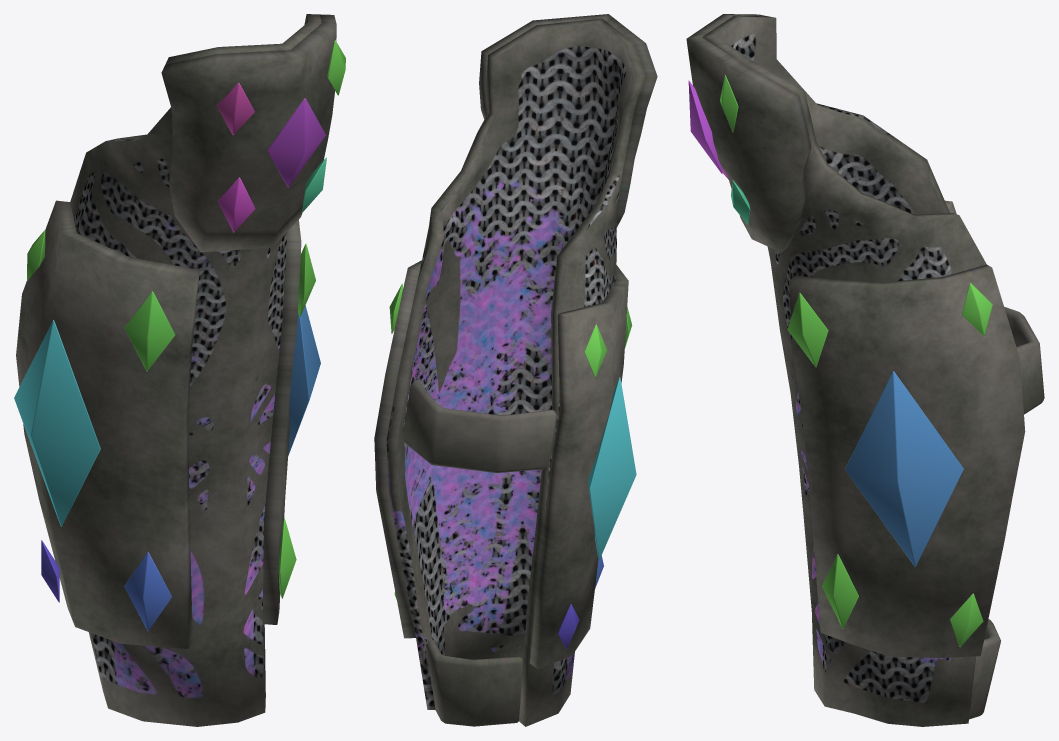
File: ornate_greaves.glb
3 views of the same model, side by side, from view 1: azimuth 30°, elevation 25°; view 2: azimuth 150°, elevation 25°; view 3: azimuth 270°, elevation 25° (orthographic). The views are drawn at different scales.
Visible parts, largest first — view 1: ornate_greaves_export; view 2: ornate_greaves_export; view 3: ornate_greaves_export.
Part boxes in pixels (left/top/right/bottom): ornate_greaves_export: left=14, top=14, right=345, bottom=726; ornate_greaves_export: left=374, top=14, right=657, bottom=726; ornate_greaves_export: left=686, top=14, right=1044, bottom=726.
Size of the model in its own units: 0.1282 by 0.3133 by 0.1529.
1 material, 1 textured.
